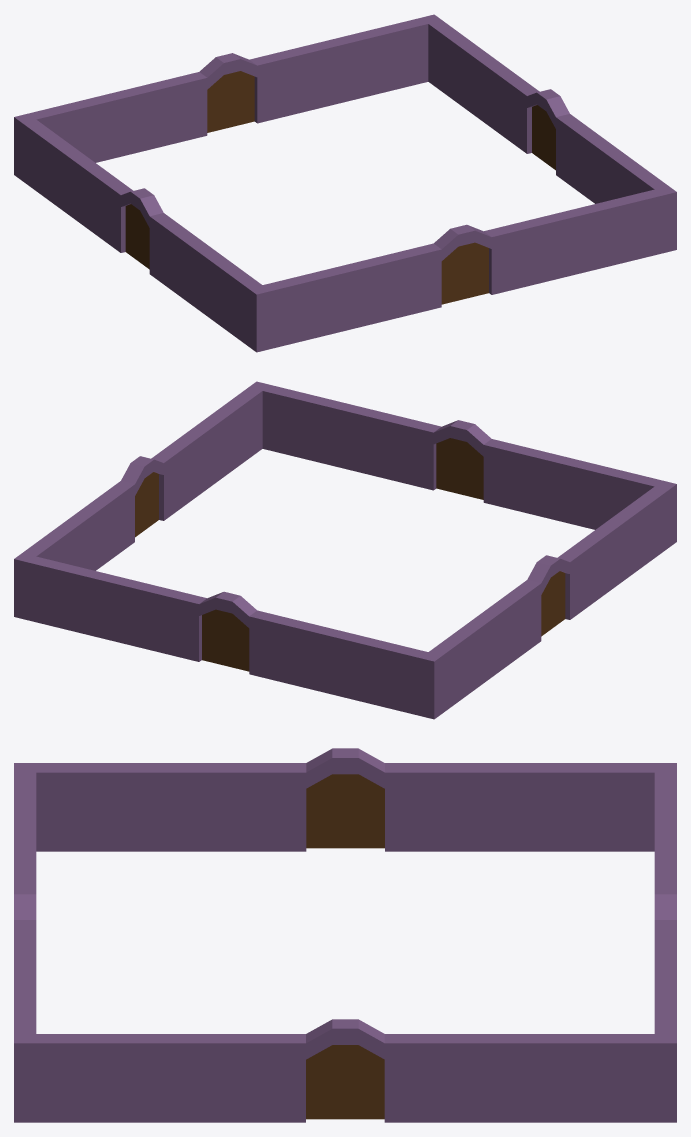
File: FourDoor.fbx
3 views of the same model, one above another, from view 1: azimuth 30°, elevation 25°; view 2: azimuth 150°, elevation 25°; view 3: azimuth 270°, elevation 25° (orthographic). The views are drawn at different scales.
Visible parts, largest first — view 1: walls, N_door, S_door, W_door, E_door; view 2: walls, S_door, N_door, W_door, E_door; view 3: walls, E_door, W_door.
Part boxes in pixels (left/top/right/bottom): walls: left=14, top=14, right=676, bottom=352; N_door: left=207, top=71, right=254, bottom=132; S_door: left=441, top=242, right=488, bottom=304; W_door: left=125, top=204, right=149, bottom=269; E_door: left=532, top=105, right=555, bottom=170; walls: left=14, top=381, right=676, bottom=719; S_door: left=436, top=438, right=483, bottom=499; N_door: left=202, top=609, right=249, bottom=671; W_door: left=541, top=571, right=565, bottom=636; E_door: left=135, top=472, right=158, bottom=537; walls: left=14, top=748, right=676, bottom=1122; E_door: left=306, top=1045, right=384, bottom=1119; W_door: left=306, top=774, right=384, bottom=848.
Size of the model in its own units: 3567 by 556 by 3566.
